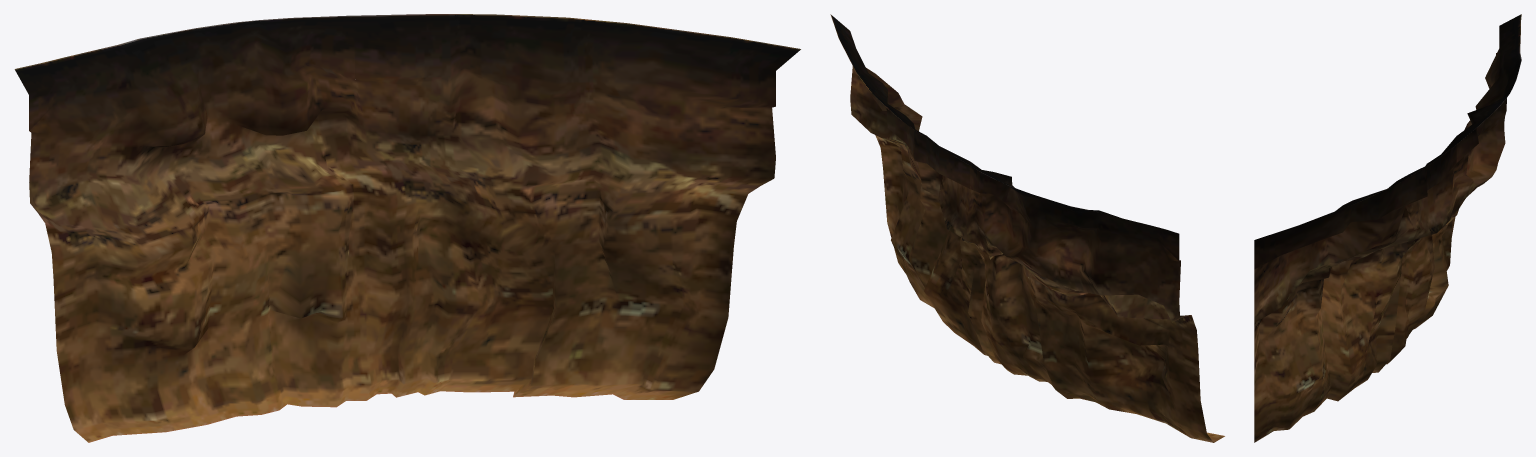
File: tunnelWallConcaveB.fbx
3 views of the same model, side by side, from view 1: azimuth 30°, elevation 25°; view 2: azimuth 150°, elevation 25°; view 3: azimuth 270°, elevation 25° (orthographic). The views are drawn at different scales.
Visible parts, largest first — view 1: tunnelWallConcaveB; view 2: tunnelWallConcaveB; view 3: tunnelWallConcaveB.
Boxes of the visible parts, left/top/right/bottom form: tunnelWallConcaveB: left=14, top=14, right=800, bottom=442; tunnelWallConcaveB: left=830, top=14, right=1224, bottom=442; tunnelWallConcaveB: left=1254, top=14, right=1521, bottom=442.
Size of the model in its own units: 600 by 300 by 300.
